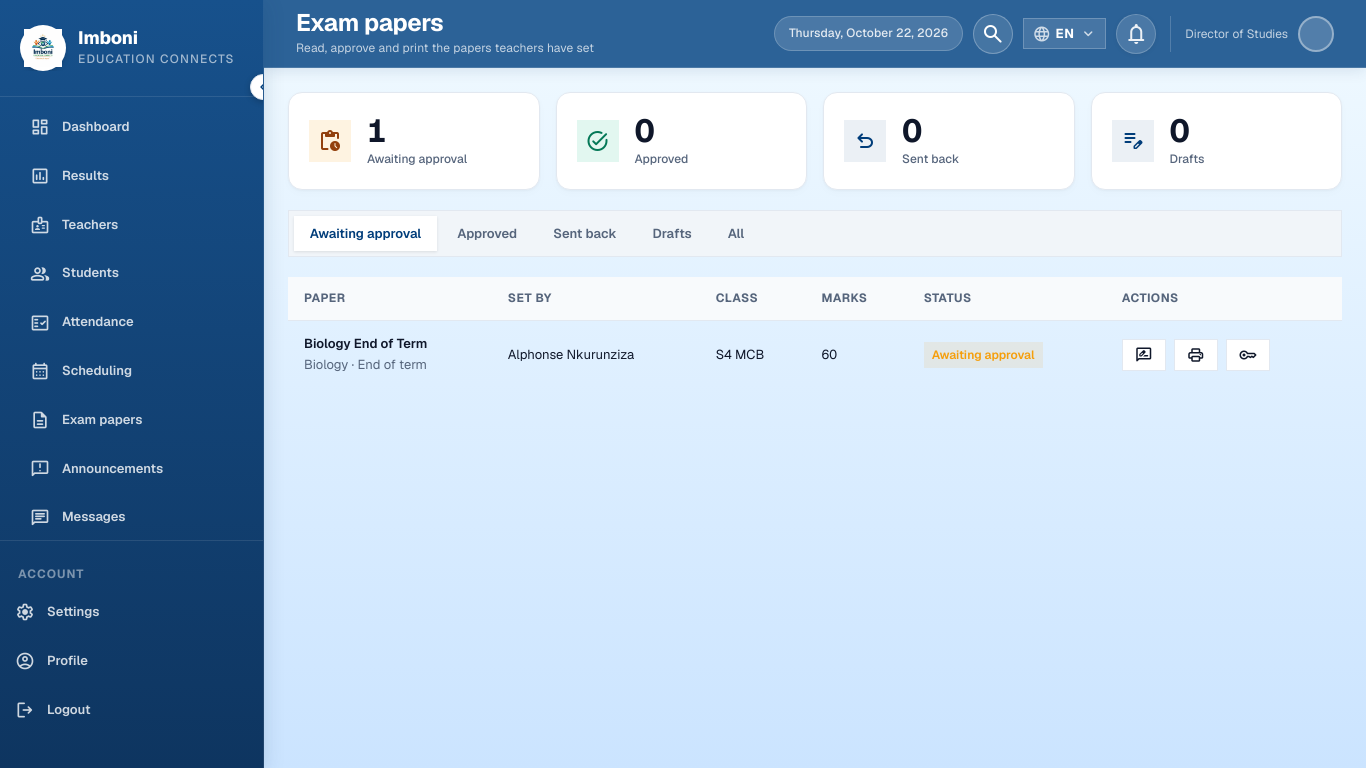
DosExamPapers › shows the questions when the DOS opens a paper to decide
Click the button titled "read and decide" at (1144, 355), box [1122,339,1166,371]
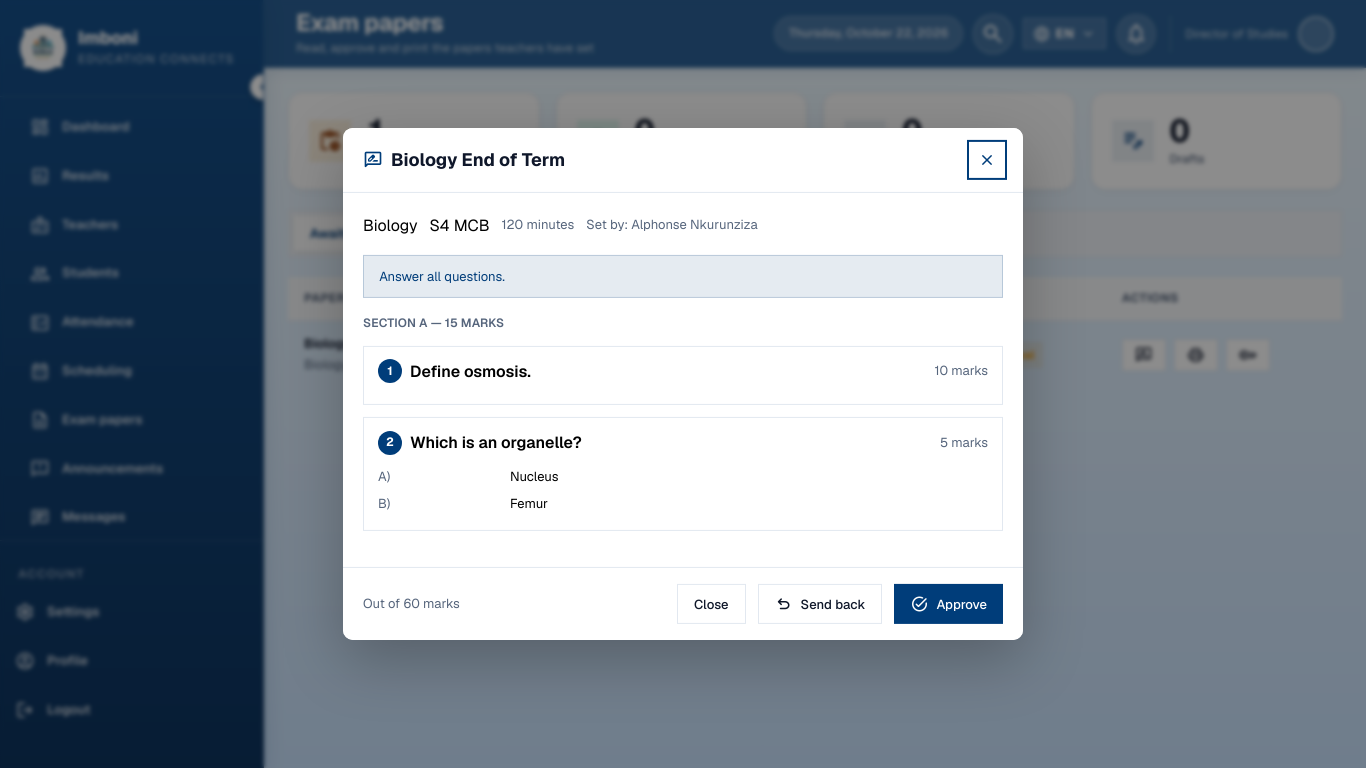
Expected: the text "Define osmosis." is shown, [410,359,531,384]
Expected: the text "Which is an organelle?" is shown, [410,430,582,456]
Expected: the text "Nucleus" is shown, [510,467,558,488]
